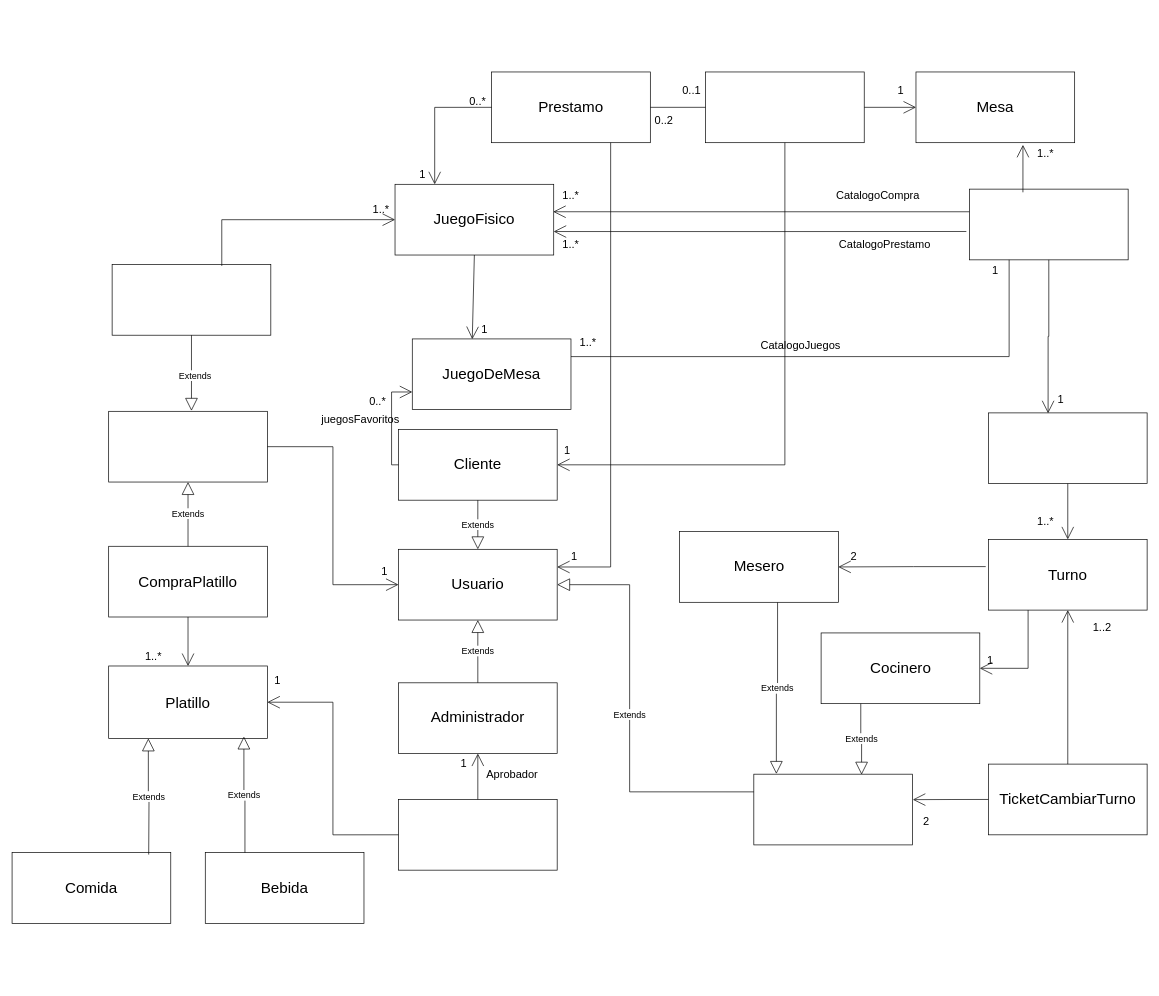
Some shapes in this 1159 by 996 pixel diagram are drawn without their labels. Each missing label, with the centre of its shape:
Cafe: the point at 1048,224
Compra: the point at 187,446
CompraJuegoMesa: the point at 191,299
Empleado: the point at 833,809
HorarioSemanal: the point at 1067,448
Reserva: the point at 784,107
TicketNuevoPlatillo: the point at 477,834
